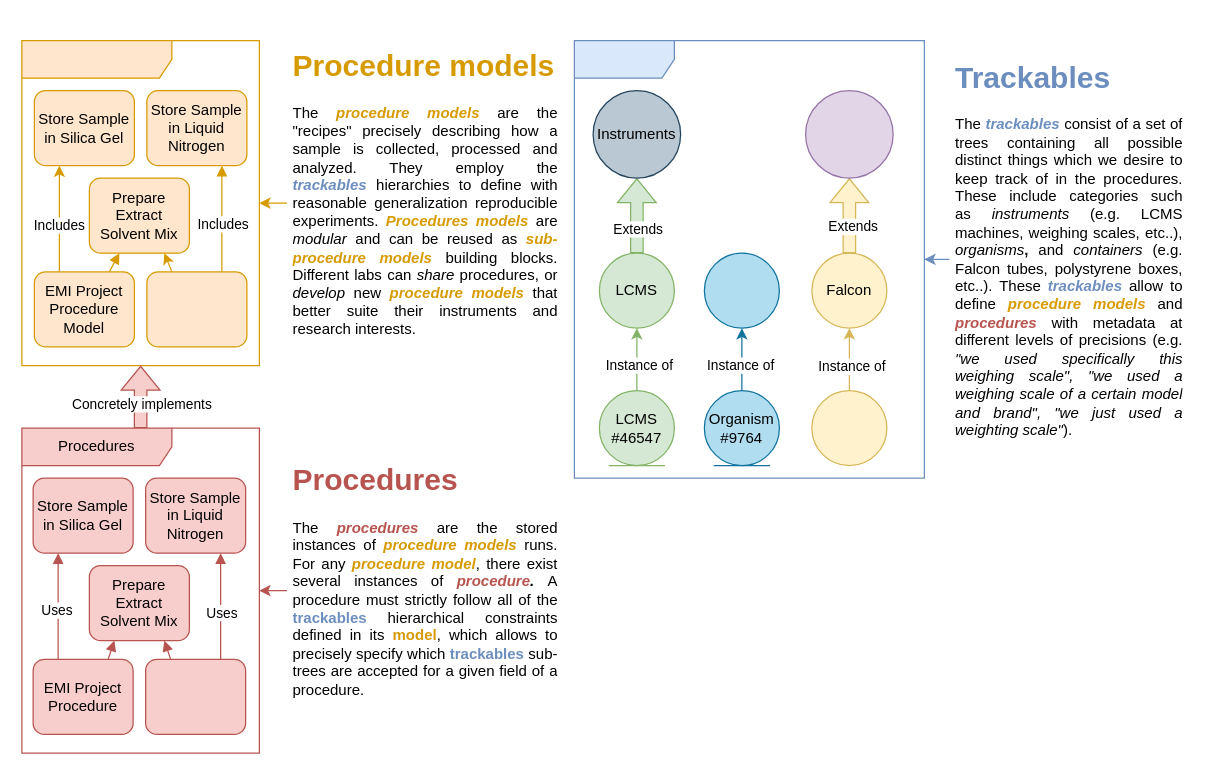
Some shapes in this 1209 by 775 pixel diagram are drawn without their labels. The shapes that lost their labels are listed below. From the top down, each one's box as (x1, y1, x2, y2) in pixels, then its label:
(804, 89, 893, 178): Containers
(21, 39, 259, 366): Procedure Models
(573, 39, 924, 478): Trackables
(146, 271, 247, 347): DBGI Project Procedure Model
(703, 252, 779, 328): Organisms
(811, 389, 887, 466): Falcon #5986
(144, 658, 246, 734): DBGI Project Procedure
